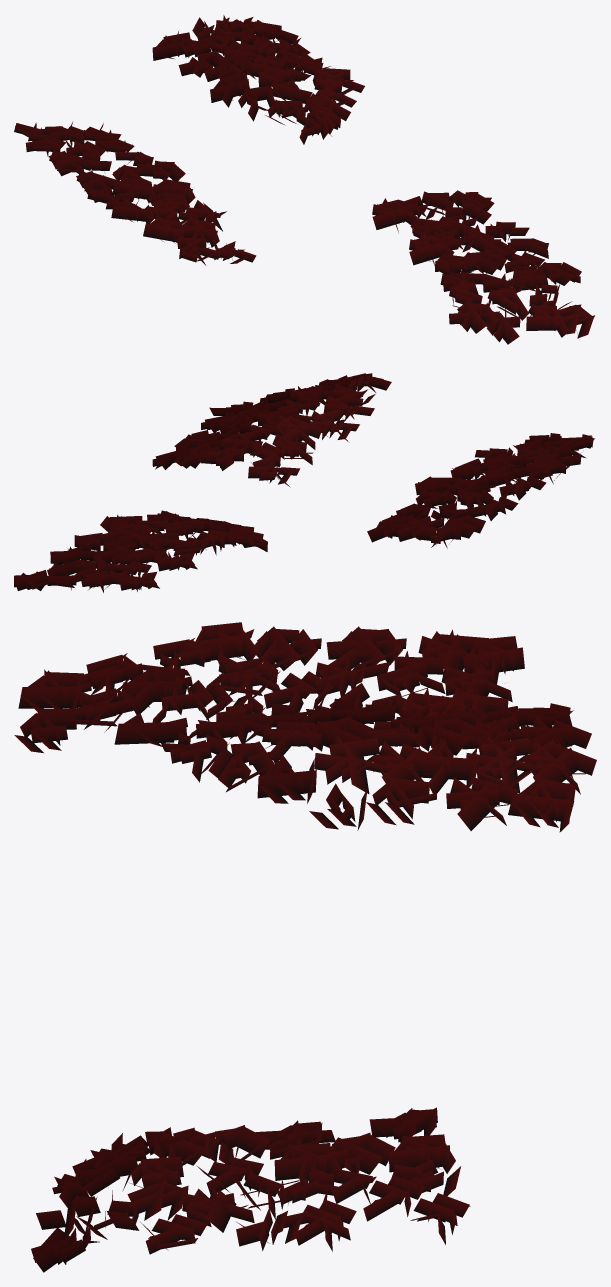
The picture shows the model from 3 angles, top to bottom: view 1: azimuth 30°, elevation 25°; view 2: azimuth 150°, elevation 25°; view 3: azimuth 270°, elevation 25°; orthographic projection. The views are drawn at different scales.
Visible parts, largest first — view 1: G:\FFXIV-MapTools\exports\d2f2\bg\ex1\02_dra_d2\fld\d2f2\bgp; view 2: G:\FFXIV-MapTools\exports\d2f2\bg\ex1\02_dra_d2\fld\d2f2\bgp; view 3: G:\FFXIV-MapTools\exports\d2f2\bg\ex1\02_dra_d2\fld\d2f2\bgp.
Boxes of the visible parts, x1,y1,x2,y2 form: G:\FFXIV-MapTools\exports\d2f2\bg\ex1\02_dra_d2\fld\d2f2\bgp: (14, 15, 594, 344); G:\FFXIV-MapTools\exports\d2f2\bg\ex1\02_dra_d2\fld\d2f2\bgp: (14, 373, 594, 592); G:\FFXIV-MapTools\exports\d2f2\bg\ex1\02_dra_d2\fld\d2f2\bgp: (14, 622, 596, 1272).
Bounding box in the file's own units: 27.95 × 14.2 × 19.41.
